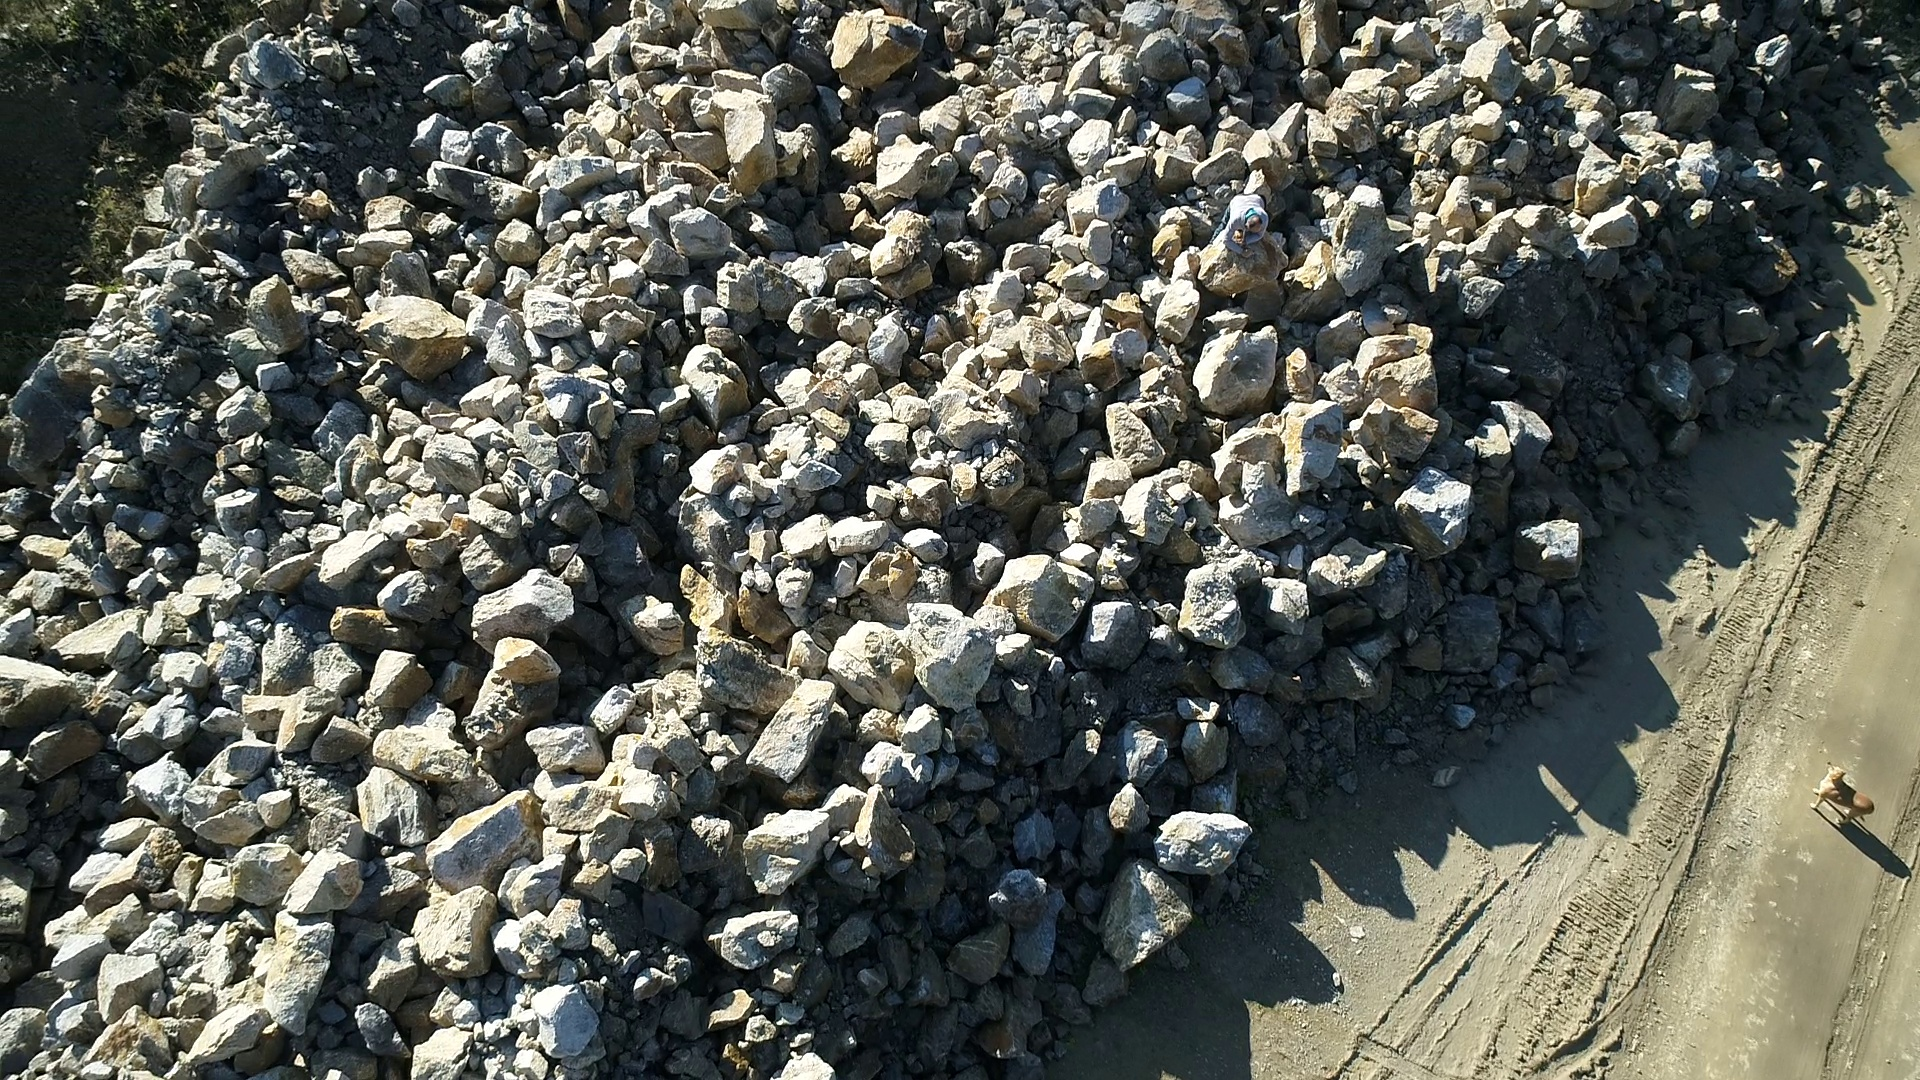not_defined: (1218, 189, 1271, 258)
